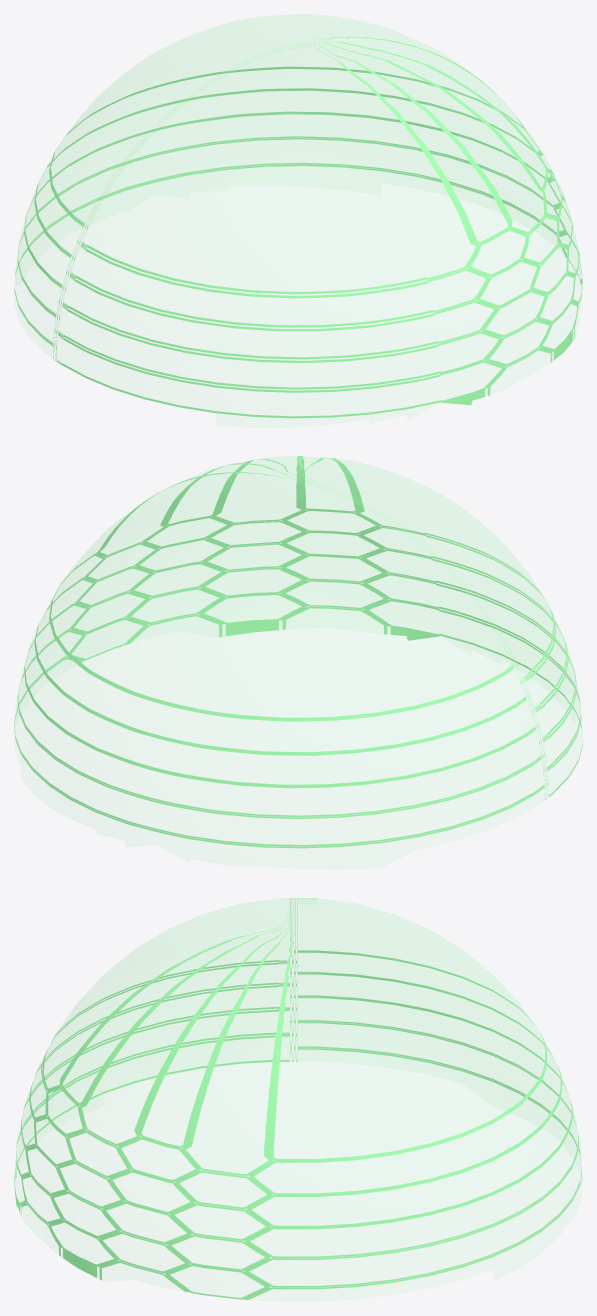
Rendered from fx_dome_mutant.glb.
3 renders of one model, top to bottom at view 1: azimuth 30°, elevation 25°; view 2: azimuth 150°, elevation 25°; view 3: azimuth 270°, elevation 25°, orthographic.
Visible parts, largest first — view 1: fx_dome_mutant; view 2: fx_dome_mutant; view 3: fx_dome_mutant.
Part boxes in pixels (x1,y1,x2,y2): fx_dome_mutant: (14, 14, 582, 418); fx_dome_mutant: (14, 456, 582, 848); fx_dome_mutant: (14, 898, 582, 1299).
Bounding box in the file's own units: 2 × 1.05 × 2.
Materials: 1 (1 with a texture image).
